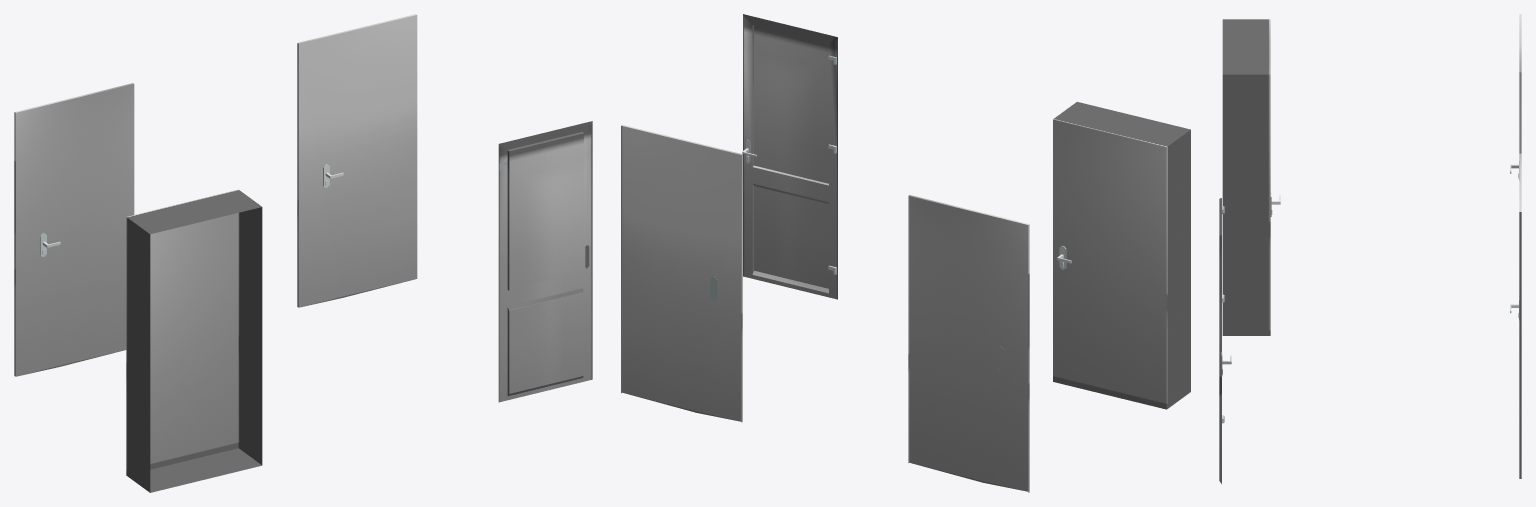
The model's file is corid_door.fbx.
3 renders of one model, left to right at view 1: azimuth 30°, elevation 25°; view 2: azimuth 150°, elevation 25°; view 3: azimuth 270°, elevation 25°, orthographic.
Visible parts, largest first — view 1: corid_door; view 2: corid_door; view 3: corid_door.
Part boxes in pixels (x1=…): corid_door: x1=14, y1=14, x2=592, y2=492; corid_door: x1=621, y1=14, x2=1190, y2=492; corid_door: x1=1219, y1=14, x2=1521, y2=483.
Bounding box in the file's own units: 3.6 × 2.1 × 2.11.
